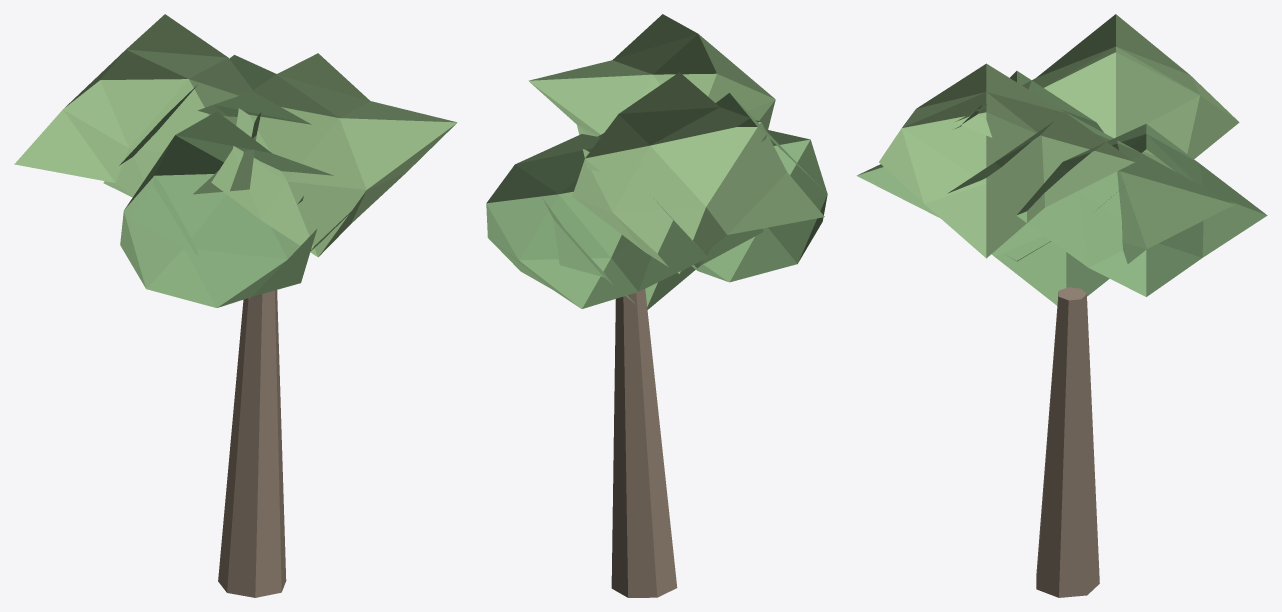
File: broadleaf_v04.glb
The picture shows the model from 3 angles, left to right: view 1: azimuth 30°, elevation 25°; view 2: azimuth 150°, elevation 25°; view 3: azimuth 270°, elevation 25°; orthographic projection. The views are drawn at different scales.
Visible parts, largest first — view 1: lod0; view 2: lod0; view 3: lod0.
Part boxes in pixels (<box>): lod0: <box>14,14,457,597</box>; lod0: <box>486,14,827,597</box>; lod0: <box>856,14,1267,597</box>.
Size of what is drawn, in the model's own units: 4.46 by 6.43 by 4.43.
